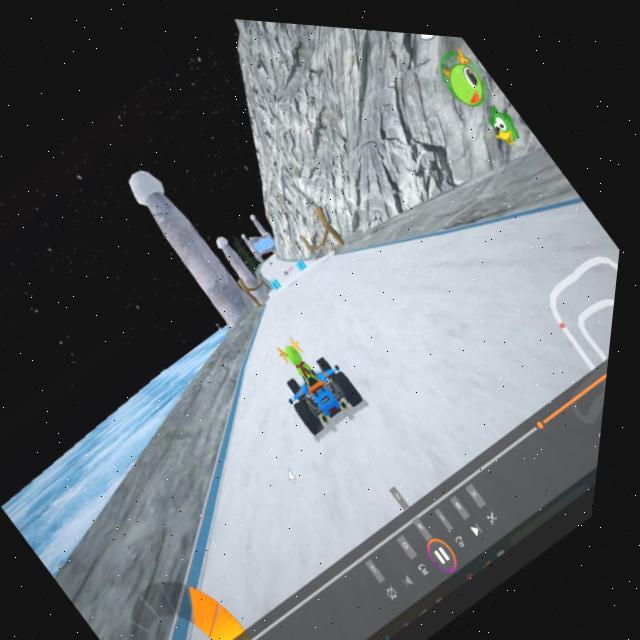bonus: (291, 246, 321, 275), (269, 266, 290, 287)
enemy_kart: (285, 263, 294, 272)
off_track: (0, 322, 246, 560)
player_kart: (257, 313, 390, 446)
track: (290, 226, 532, 473)
